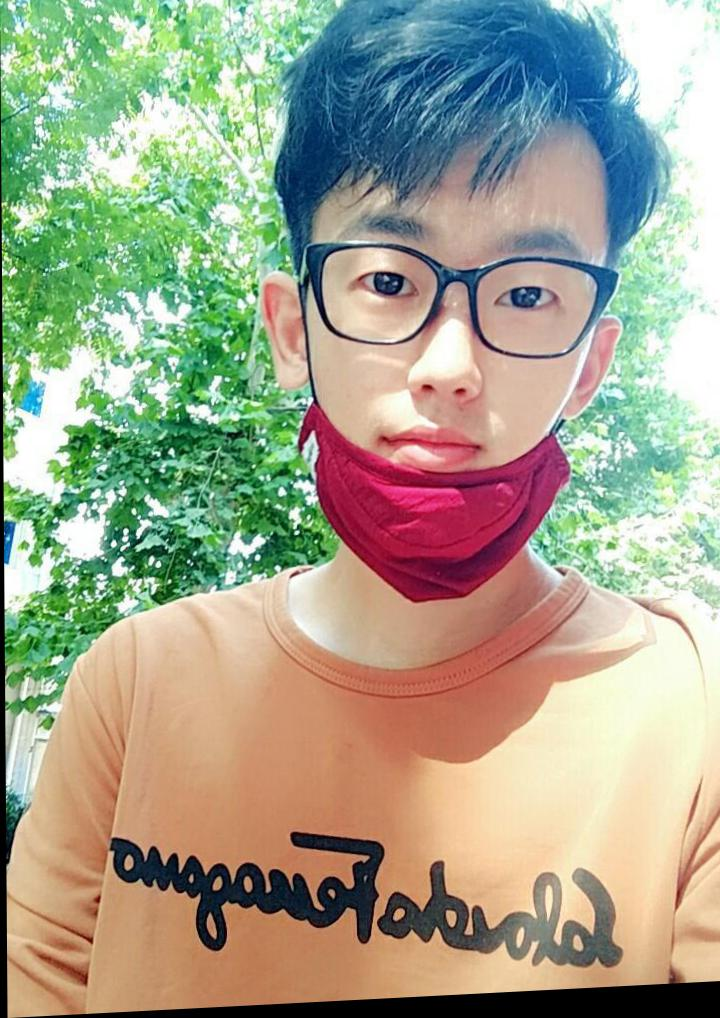WRONG: (299, 188, 599, 548)
